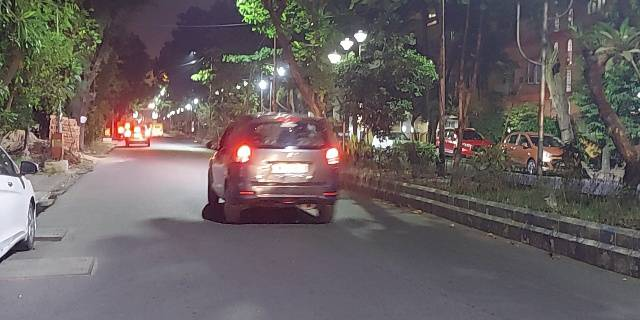Car: (208, 115, 338, 223)
